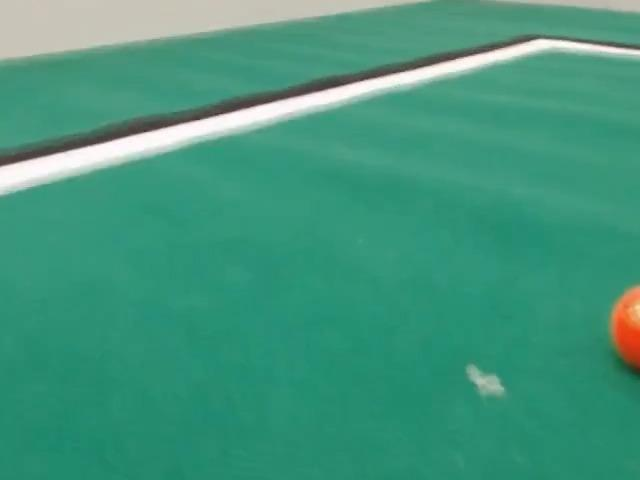Ball: (610, 285, 639, 372)
